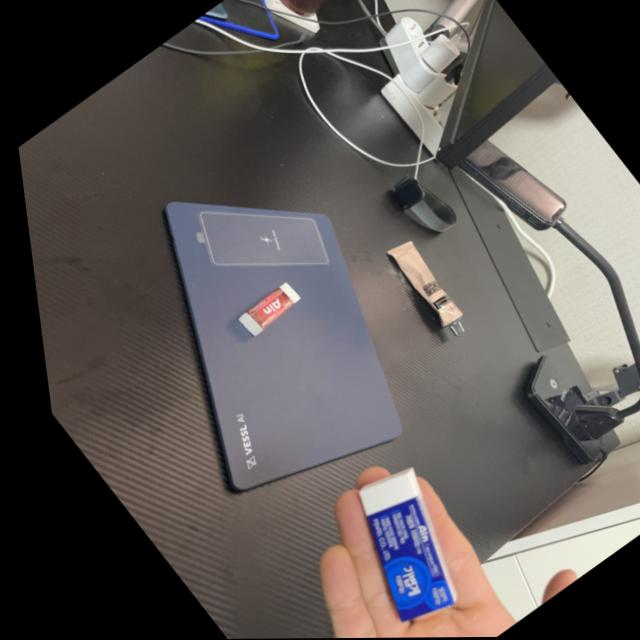blue: (281, 442, 501, 639)
red: (211, 269, 309, 348)
